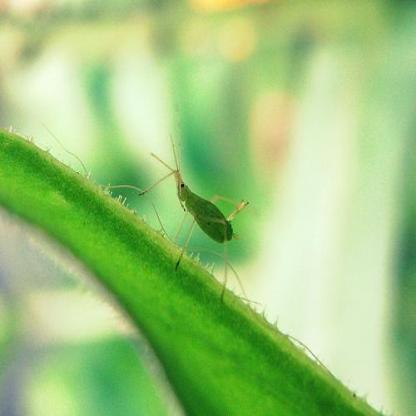aphid: (142, 133, 252, 297)
